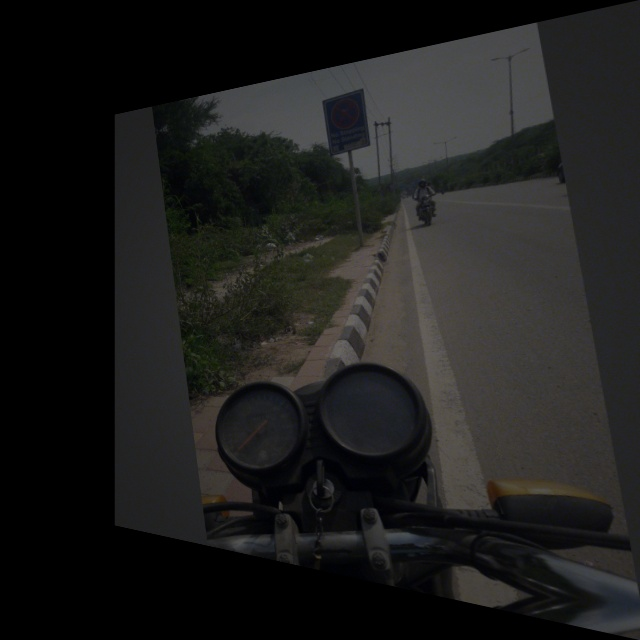No_Stopping_or_Standing: (323, 85, 370, 138)
